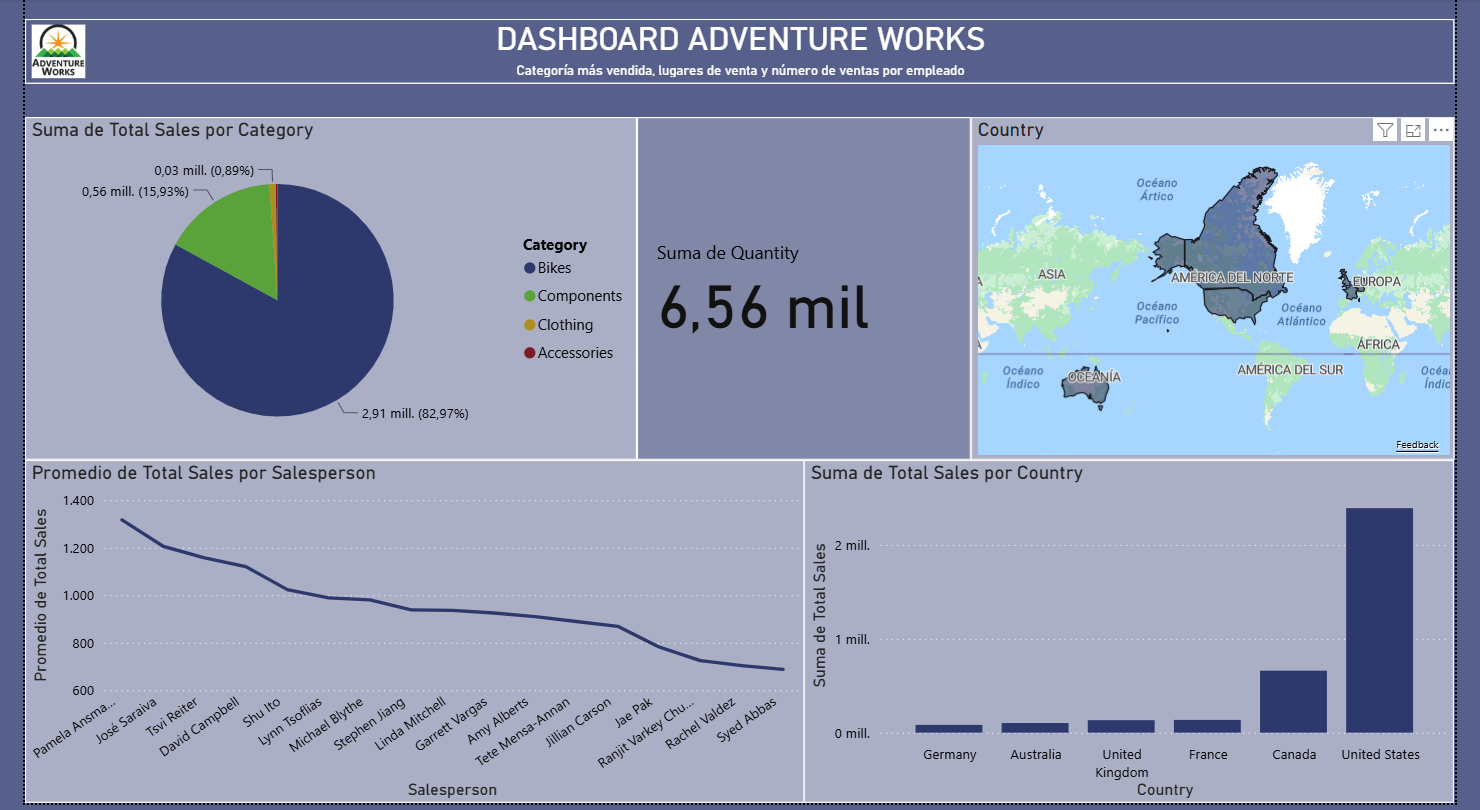

What the dashboard file says about the page in this screenshot:
{"tool":"powerbi","page":{"name":"Page 1","canvas":[1280,720],"ordinal":0},"visuals":[{"type":"columnChart","fields":{"Category":["Region.Country"],"Y":["Sum(Sales.Total Sales)"]},"box":[697.6,412.8,582.1,307.2],"z":0},{"type":"pieChart","fields":{"Y":["Sum(Sales.Total Sales)"],"Category":["Products.Category"]},"box":[0,105.7,548.1,307.2],"z":1000},{"type":"azureMap","fields":{"Category":["Region.Country"]},"box":[847.2,105.7,432.5,307.2],"z":2000},{"type":"lineChart","fields":{"Category":["Salesperson.Salesperson"],"Y":["Avg(Sales.Total Sales)"]},"box":[0,412.8,697.6,307.2],"z":3000},{"type":"cardVisual","fields":{"Data":["Sum(Sales.Quantity)"]},"box":[548.1,105.7,299.1,307.2],"z":4000},{"type":"textbox","title":"DASHBOARD ADVENTURE WORKS","box":[0,17.9,1279.7,58.2],"z":5000},{"type":"image","box":[0,17.9,60,58.2],"z":6000}]}

Visuals, with their boxes in screenshot pixels (x1, y1, x2, y2), scaled from the page's 1280x720 canvas onto the 1480x810 screenshot:
columnChart - Region.Country x Sum(Sales.Total Sales): [807,464,1479,809]
pieChart - Sum(Sales.Total Sales) x Products.Category: [0,119,634,465]
azureMap - Region.Country: [980,119,1479,465]
lineChart - Salesperson.Salesperson x Avg(Sales.Total Sales): [0,464,807,809]
cardVisual - Sum(Sales.Quantity): [634,119,980,465]
"DASHBOARD ADVENTURE WORKS" textbox: [0,20,1479,86]
image: [0,20,69,86]
